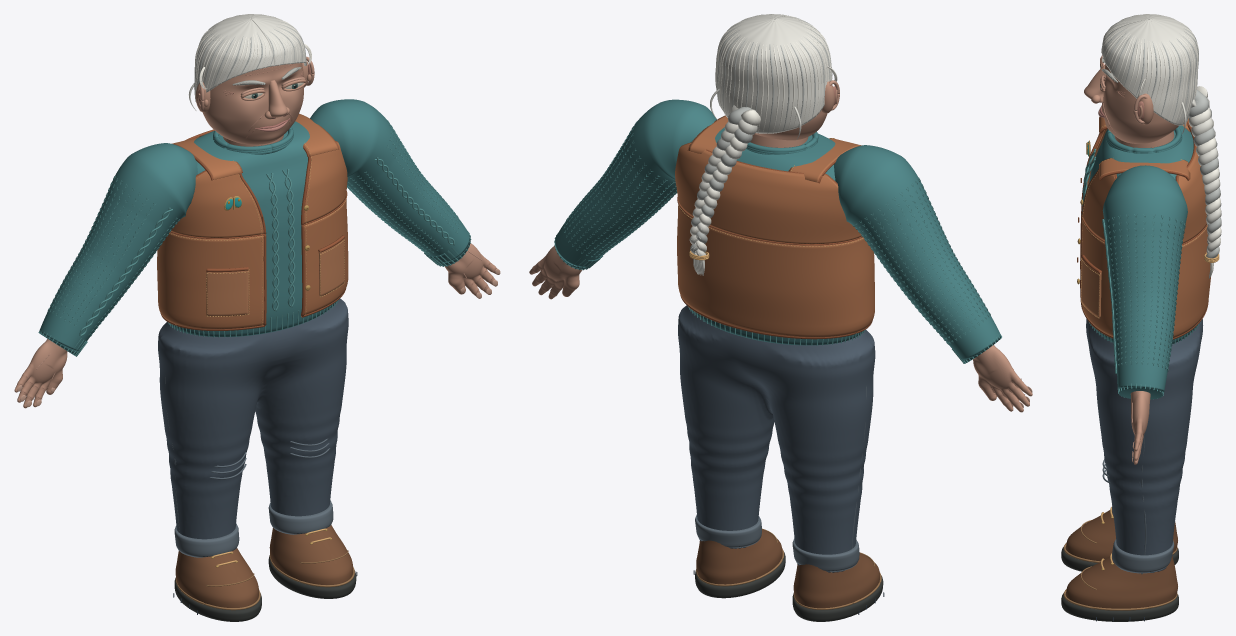
3 views of the same model, side by side, from view 1: azimuth 30°, elevation 25°; view 2: azimuth 150°, elevation 25°; view 3: azimuth 270°, elevation 25° (orthographic). The views are drawn at different scales.
Visible parts, largest first — view 1: trousers | continuous tailored legs and pelvis, right continuous knitted shoulder and sleeve, left continuous knitted shoulder and sleeve, vest | lower wrap, pullover | knitted torso, vest | tailored front panels, hair | white swept scalp, head | sculpted face and cranium, right leather walking shoe, left leather walking shoe, vest | hip patch pockets, pullover | all-around knitted stitches (+12 smaller); view 2: trousers | continuous tailored legs and pelvis, vest | lower wrap, right continuous knitted shoulder and sleeve, left continuous knitted shoulder and sleeve, vest | upper back, hair | white swept scalp, hair | swept strand relief (×2), hair | three woven braid strands (×3), pullover | all-around knitted stitches, left leather walking shoe, right leather walking shoe, right hand | continuous sculpted skin (+9 smaller); view 3: left continuous knitted shoulder and sleeve, trousers | continuous tailored legs and pelvis, hair | white swept scalp, vest | lower wrap, left leather walking shoe, hair | swept strand relief (×2), hair | three woven braid strands (×3), head | sculpted face and cranium, pullover | all-around knitted stitches, right leather walking shoe, pullover | knitted torso, vest | upper back (+15 smaller).
Part boxes in pixels (box(x1,y1,x2,y2)): trousers | continuous tailored legs and pelvis: box(158, 298, 348, 539); right continuous knitted shoulder and sleeve: box(39, 143, 197, 352); left continuous knitted shoulder and sleeve: box(310, 99, 470, 263); vest | lower wrap: box(157, 199, 348, 329); pullover | knitted torso: box(194, 121, 309, 320); vest | tailored front panels: box(171, 142, 347, 237); hair | white swept scalp: box(195, 14, 306, 101); head | sculpted face and cranium: box(202, 63, 304, 144); right leather walking shoe: box(175, 548, 258, 607); left leather walking shoe: box(269, 525, 352, 584); vest | hip patch pockets: box(206, 239, 344, 316); pullover | all-around knitted stitches: box(47, 120, 460, 336); trousers | continuous tailored legs and pelvis: box(678, 305, 875, 572); vest | lower wrap: box(677, 205, 874, 337); right continuous knitted shoulder and sleeve: box(834, 145, 1000, 360); left continuous knitted shoulder and sleeve: box(554, 99, 716, 267); vest | upper back: box(675, 142, 861, 244); hair | white swept scalp: box(715, 14, 832, 133); hair | swept strand relief (×2): box(715, 14, 832, 133); hair | three woven braid strands (×3): box(689, 105, 760, 255); pullover | all-around knitted stitches: box(564, 121, 990, 344); left leather walking shoe: box(696, 529, 782, 584); right leather walking shoe: box(793, 553, 879, 608); right hand | continuous sculpted skin: box(973, 345, 1032, 412); left continuous knitted shoulder and sleeve: box(1102, 165, 1187, 392); trousers | continuous tailored legs and pelvis: box(1086, 319, 1203, 572); hair | white swept scalp: box(1101, 14, 1198, 125); vest | lower wrap: box(1081, 221, 1210, 337); left leather walking shoe: box(1066, 556, 1177, 608); hair | swept strand relief (×2): box(1101, 14, 1198, 124); hair | three woven braid strands (×3): box(1189, 86, 1221, 258); head | sculpted face and cranium: box(1101, 64, 1178, 143); pullover | all-around knitted stitches: box(1108, 214, 1185, 371); right leather walking shoe: box(1066, 510, 1177, 561); pullover | knitted torso: box(1089, 125, 1193, 182); vest | upper back: box(1177, 121, 1206, 243).
Size of the model in its own units: 1.53 by 1.68 by 0.433.
